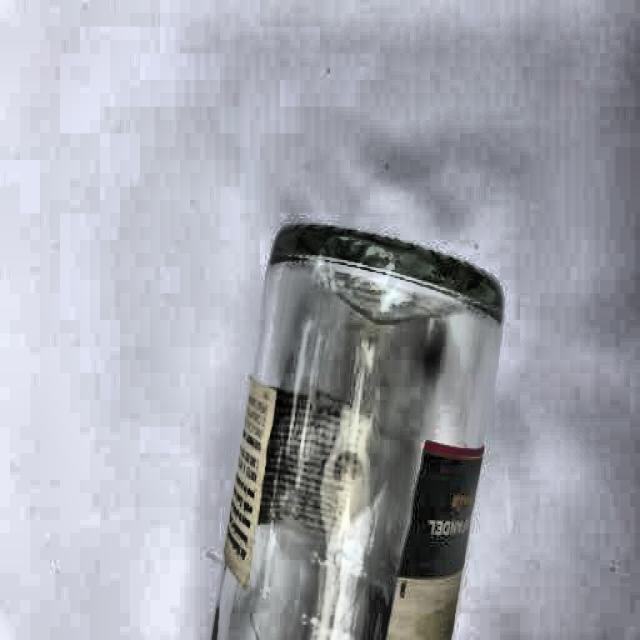glass: (234, 218, 508, 640)
